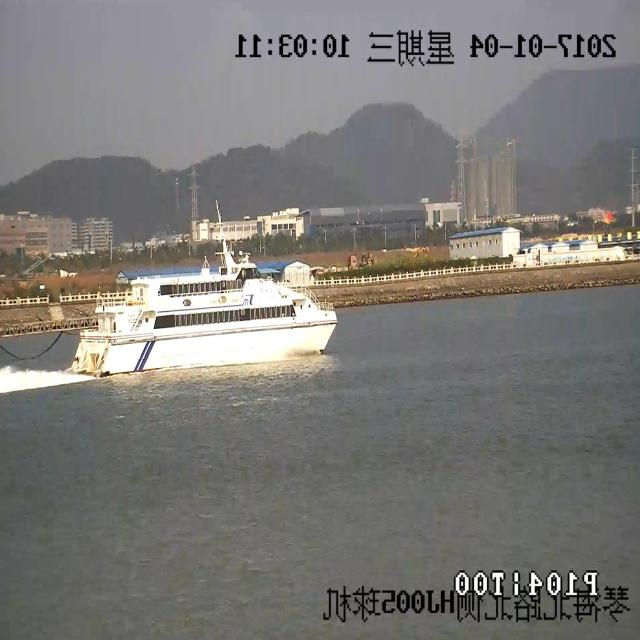passenger ship: (70, 228, 340, 384)
